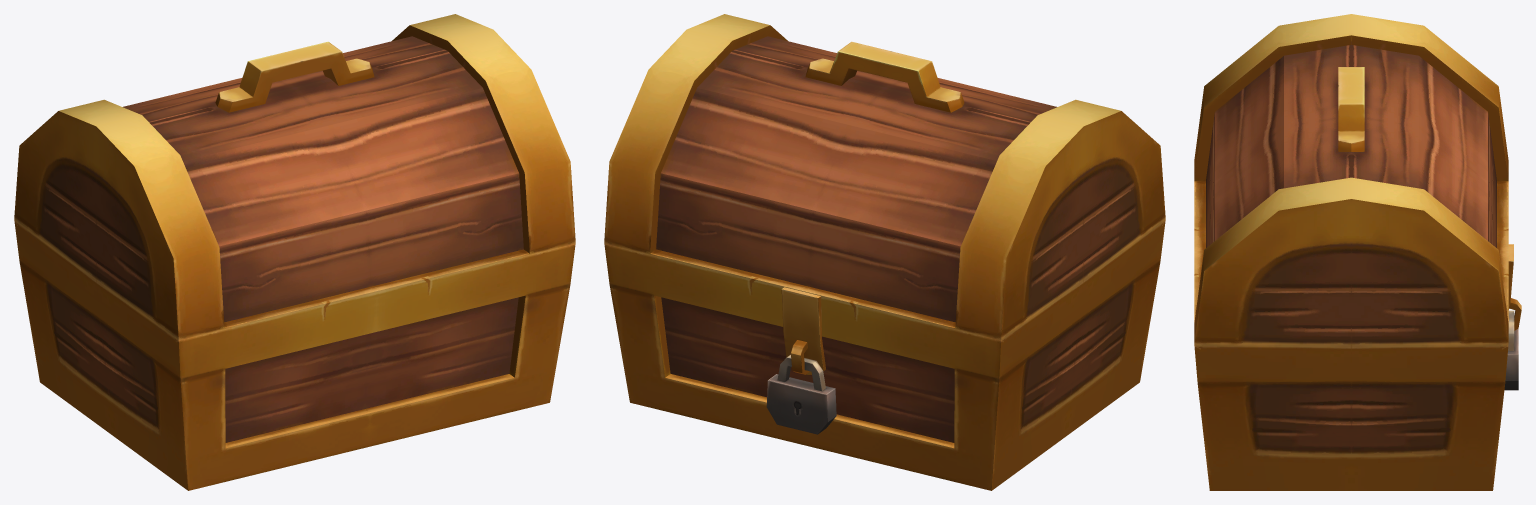
The model's file is treasure chest_1.fbx.
3 renders of one model, left to right at view 1: azimuth 30°, elevation 25°; view 2: azimuth 150°, elevation 25°; view 3: azimuth 270°, elevation 25°, orthographic. The views are drawn at different scales.
Parts seen in each view (by area): view 1: treasure chest_1; view 2: treasure chest_1; view 3: treasure chest_1.
Part boxes in pixels (bbox=[...]): treasure chest_1: bbox=[14, 14, 575, 490]; treasure chest_1: bbox=[604, 14, 1165, 490]; treasure chest_1: bbox=[1194, 14, 1521, 490].
Size of the model in its own units: 20.74 by 16.77 by 15.51.
1 material, 1 textured.
